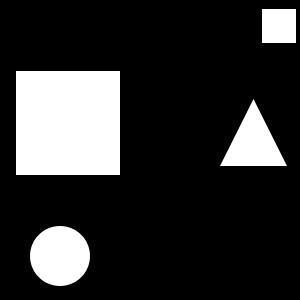circle: (16, 71, 120, 175), (262, 9, 296, 43)
rectangle: (30, 226, 90, 286)
triangle: (220, 99, 287, 166)
